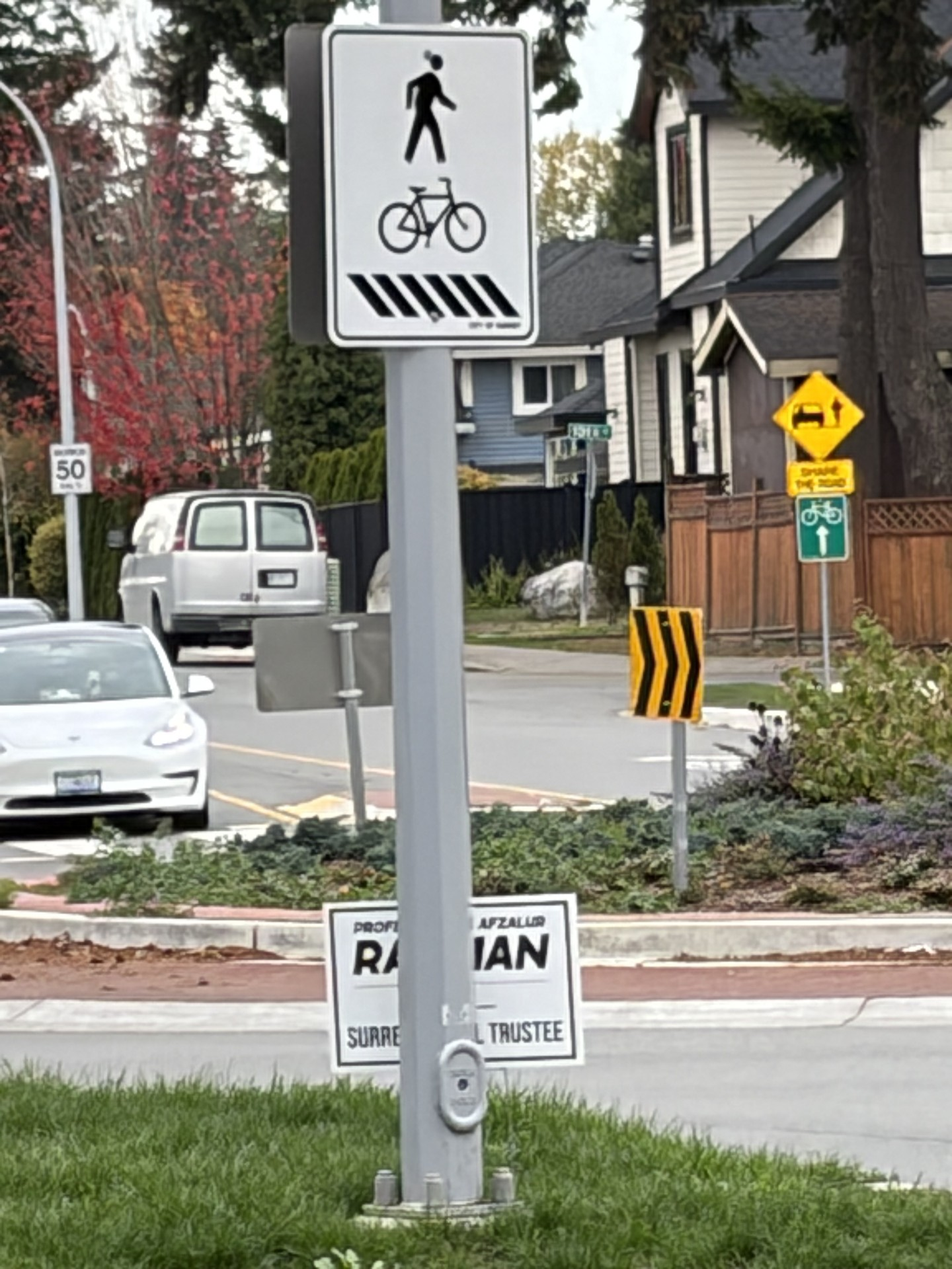pedestrian_crossing: (357, 17, 517, 180)
speed_limit: (33, 417, 106, 511)
